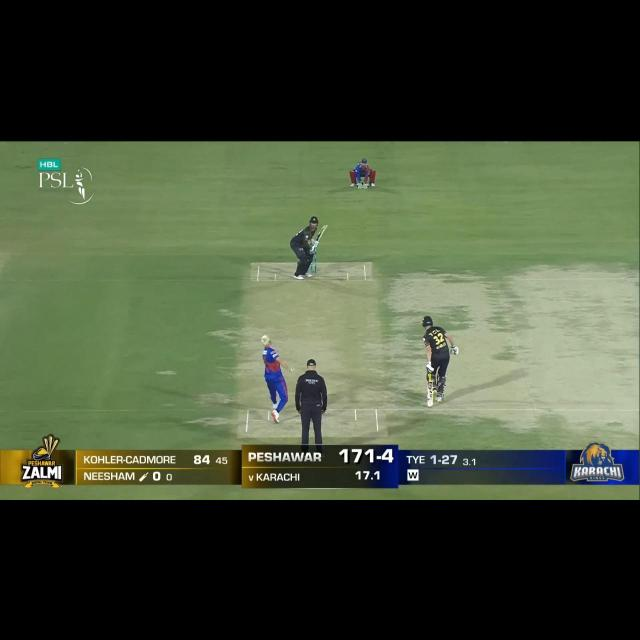bat: (315, 225, 329, 242), (426, 382, 434, 408)
toe: (426, 404, 434, 409), (323, 224, 328, 228)
